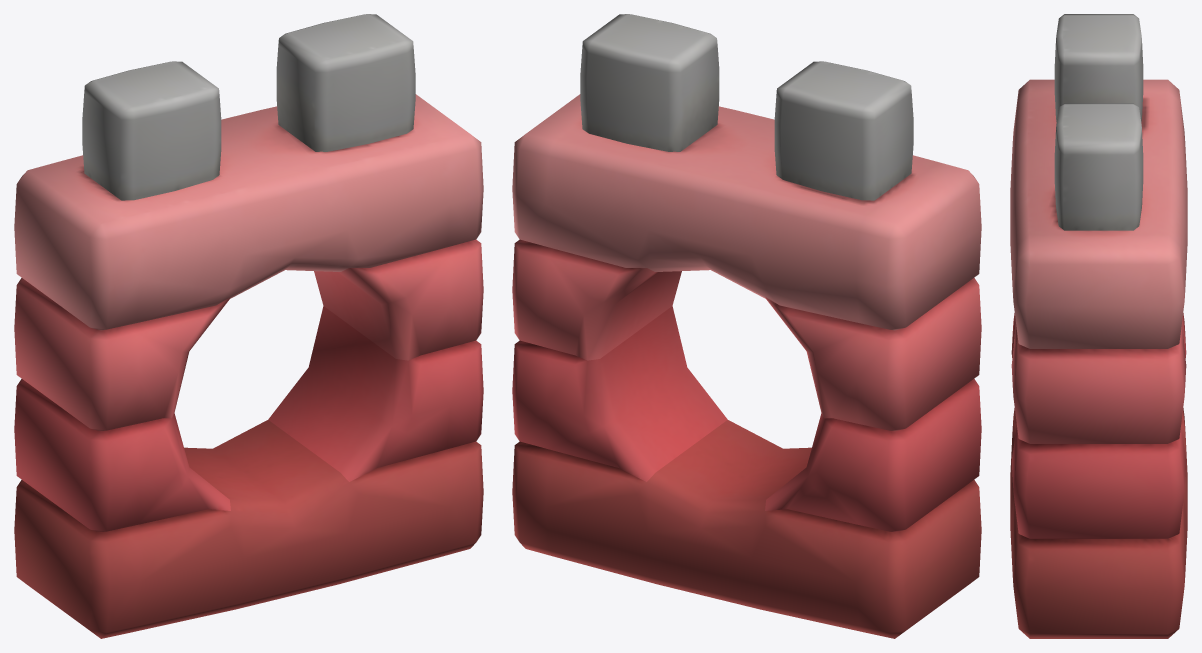
Rendered from HoledWall.fbx.
3 views of the same model, side by side, from view 1: azimuth 30°, elevation 25°; view 2: azimuth 150°, elevation 25°; view 3: azimuth 270°, elevation 25° (orthographic). The views are drawn at different scales.
Parts seen in each view (by area): view 1: HoledWall; view 2: HoledWall; view 3: HoledWall.
Part boxes in pixels (bbox=[...]): HoledWall: bbox=[14, 14, 483, 638]; HoledWall: bbox=[512, 14, 981, 638]; HoledWall: bbox=[1010, 14, 1187, 638].
Size of the model in its own units: 306 by 380 by 128.
